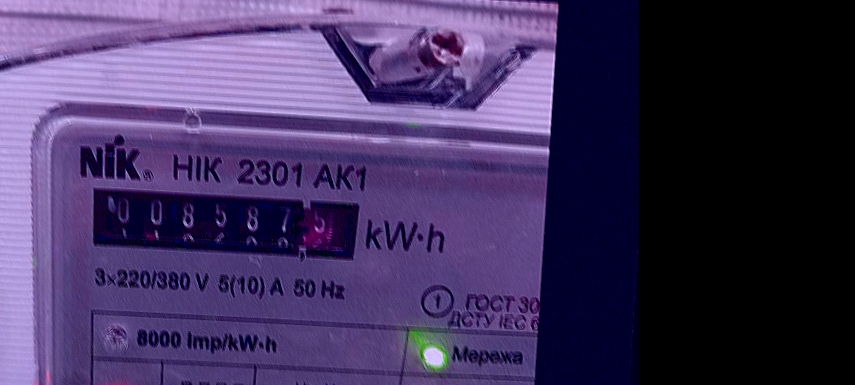0: (145, 196, 164, 225), (112, 193, 130, 223)
5: (309, 206, 328, 236), (209, 199, 228, 228)
7: (273, 202, 292, 233)
8: (241, 201, 260, 232), (177, 199, 195, 228)
screen: (69, 171, 376, 272)
